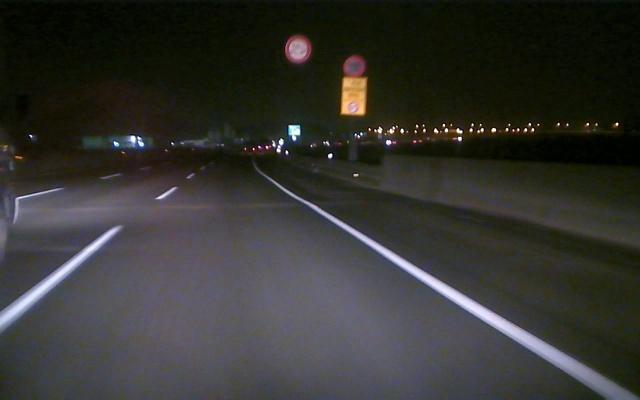lane: (267, 178, 632, 397), (4, 188, 174, 331), (10, 172, 124, 200)
